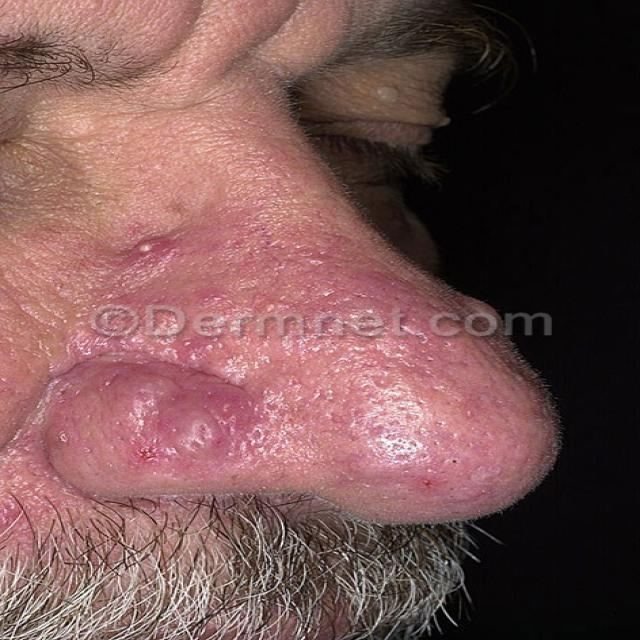images: (0, 0, 565, 639)
